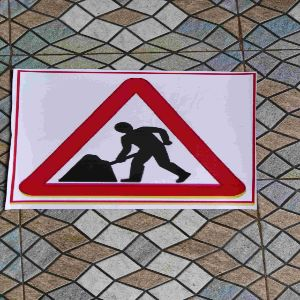men at work: (31, 80, 245, 195)
